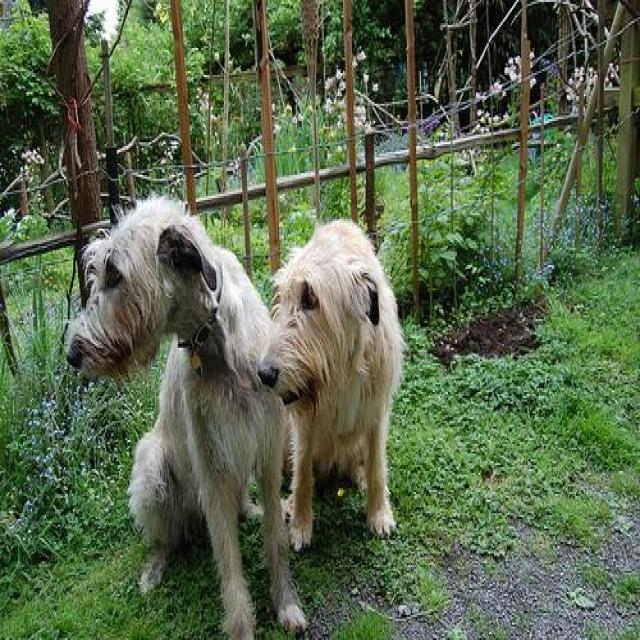irish_wolfhound: (63, 190, 312, 638), (256, 217, 404, 548)
